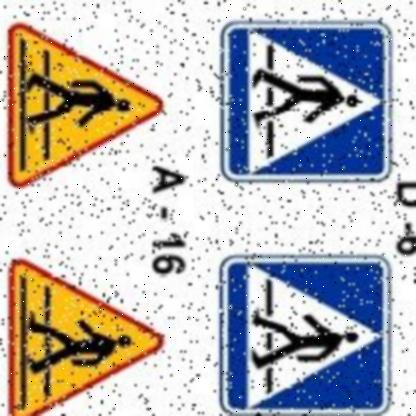Pedestrian Crossing: (218, 18, 392, 192), (209, 252, 393, 416)
